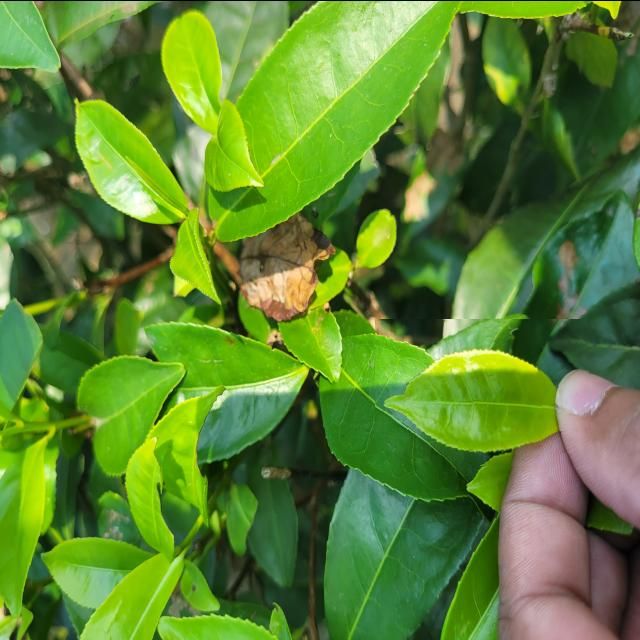Catagory A 1-2 days: (376, 318, 594, 467)
